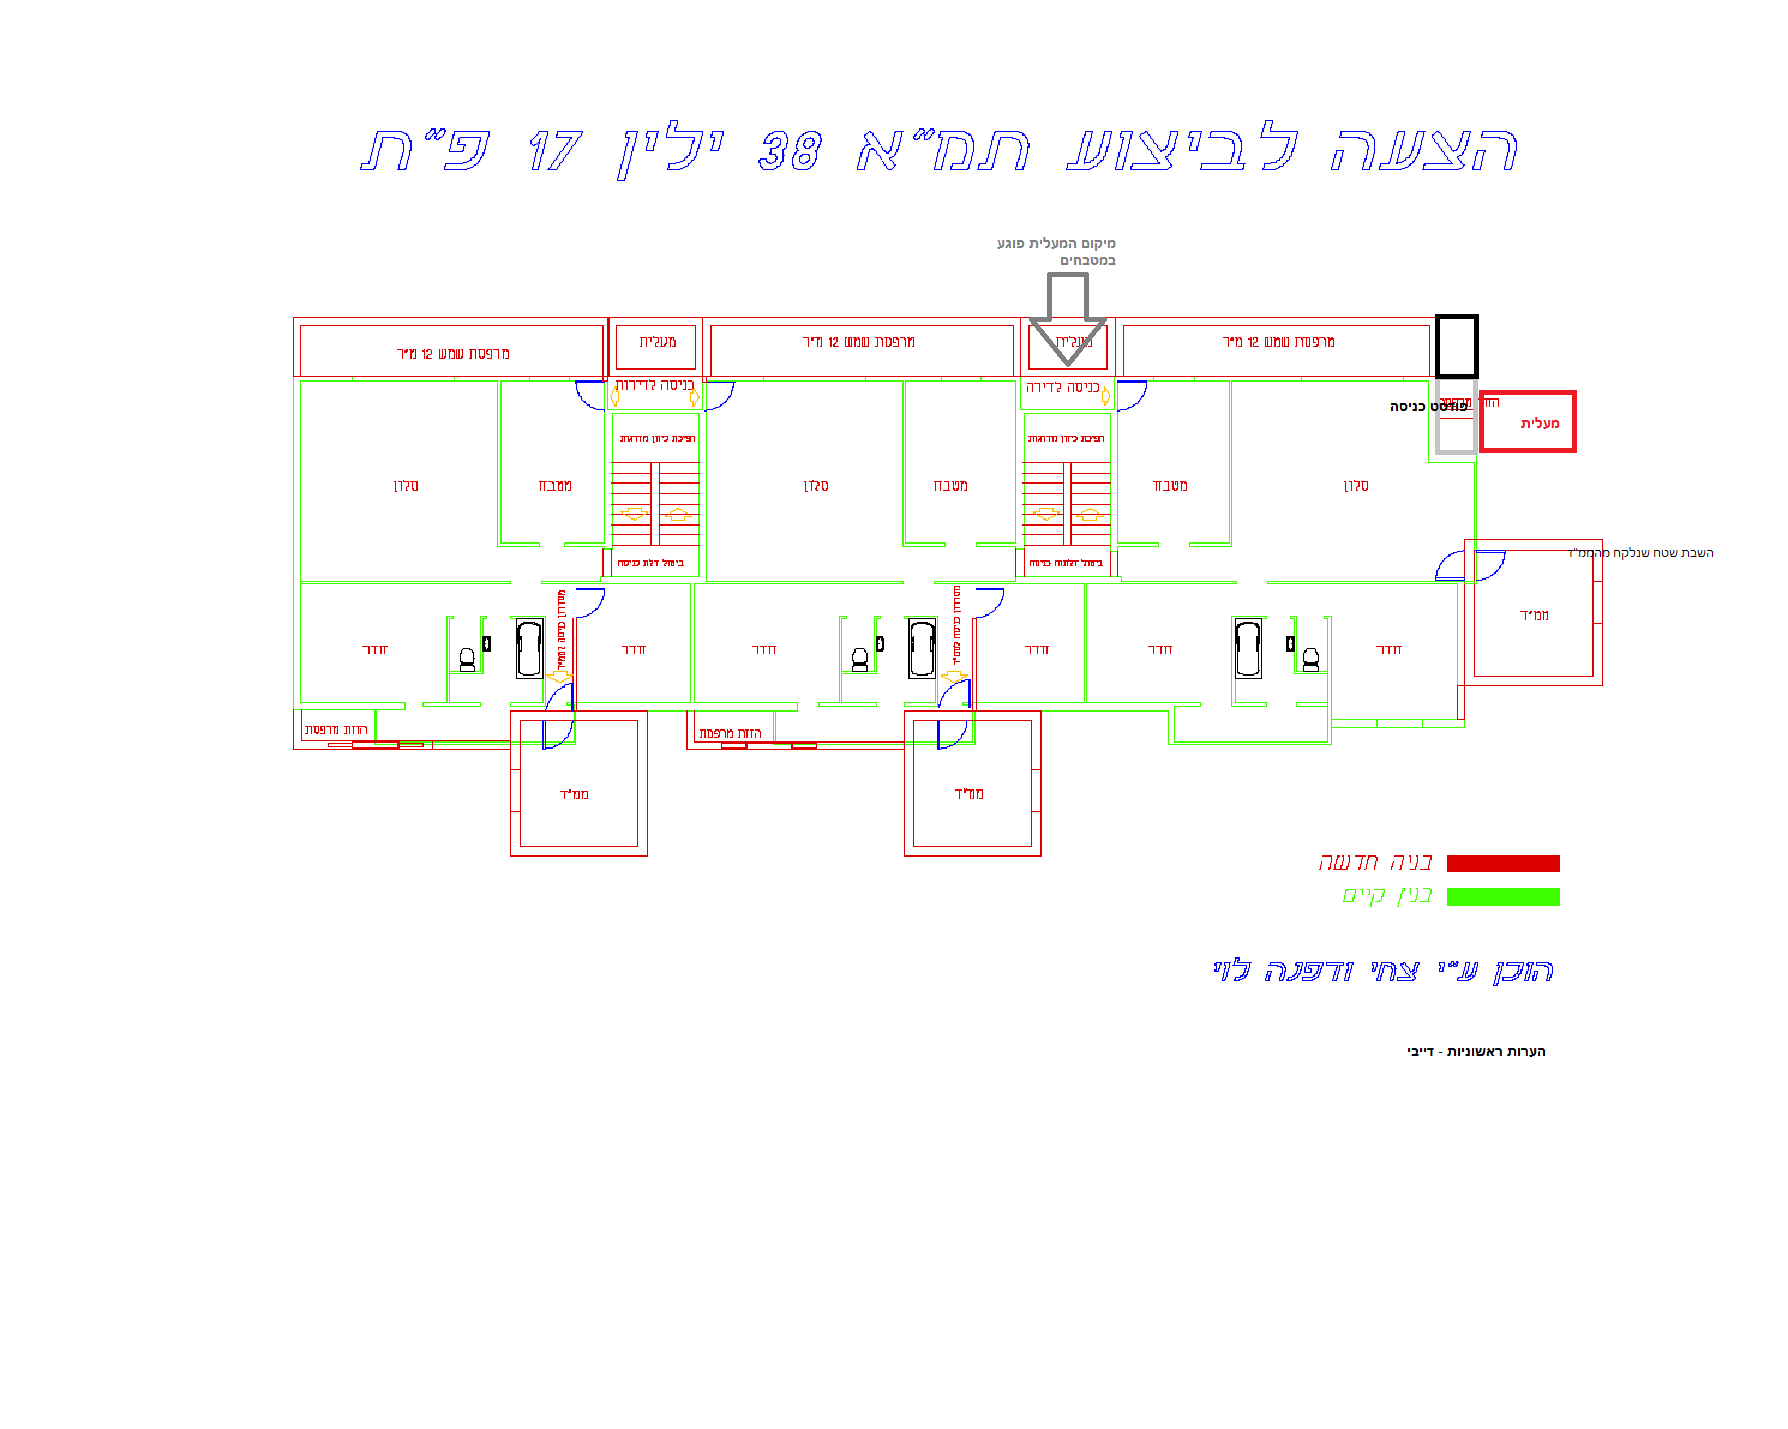door: (1117, 378, 1154, 416), (1474, 545, 1508, 586), (925, 723, 971, 752), (537, 720, 578, 748), (572, 381, 605, 413), (1434, 551, 1467, 583), (572, 585, 607, 615), (976, 583, 1006, 618), (707, 378, 739, 408)
